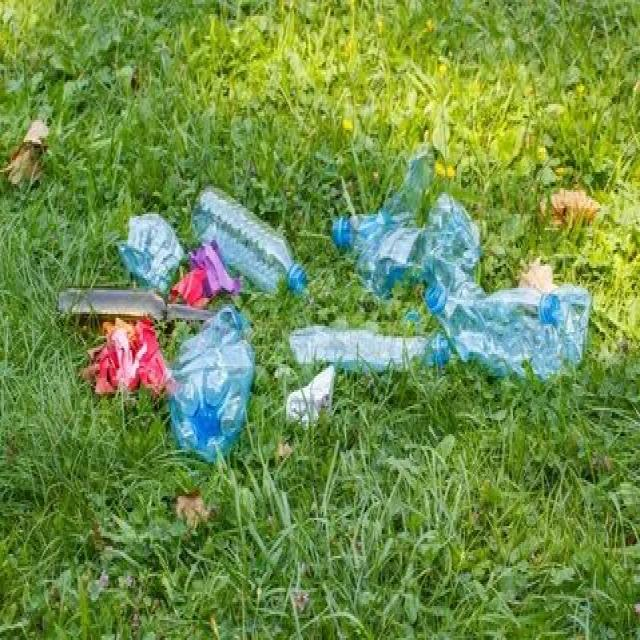blue: (426, 281, 591, 377), (168, 303, 254, 461), (190, 186, 303, 293), (333, 144, 434, 252)
